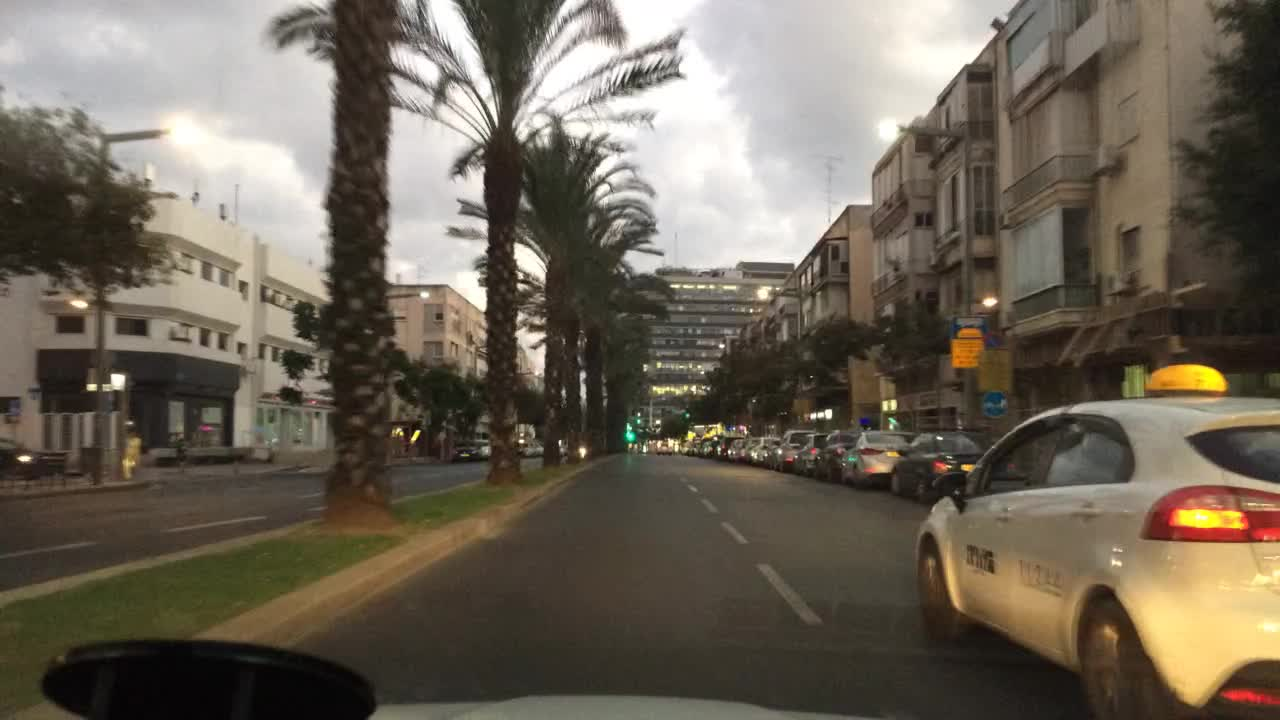car: (912, 359, 1277, 716), (887, 426, 987, 505), (839, 429, 912, 487), (809, 428, 860, 483), (0, 432, 44, 477), (791, 434, 827, 478), (766, 429, 804, 468), (749, 433, 779, 463), (448, 446, 486, 463), (722, 438, 745, 461), (739, 437, 759, 459), (716, 437, 734, 458), (652, 439, 671, 457), (520, 442, 535, 457), (683, 442, 697, 456), (701, 441, 713, 457), (531, 448, 543, 457)
person: (125, 427, 139, 475), (176, 434, 187, 466)
traffic light: (624, 429, 633, 442), (632, 417, 643, 426), (682, 410, 690, 421)
traffic sign: (980, 387, 1009, 419)
